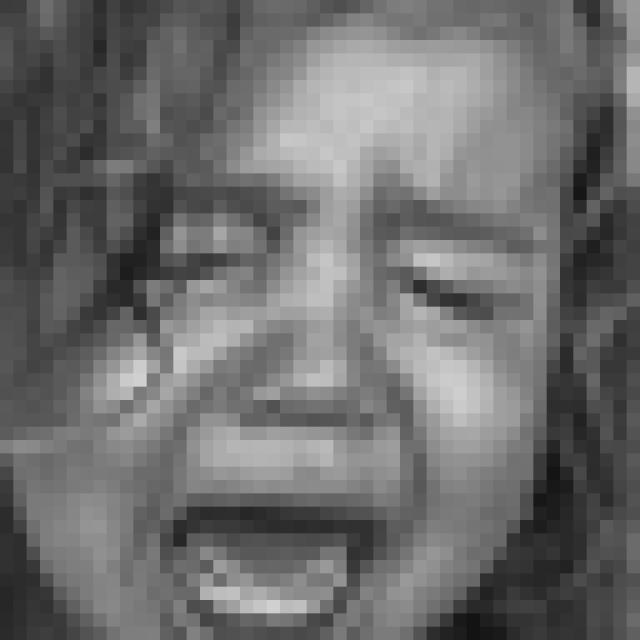sad: (77, 149, 542, 640)
